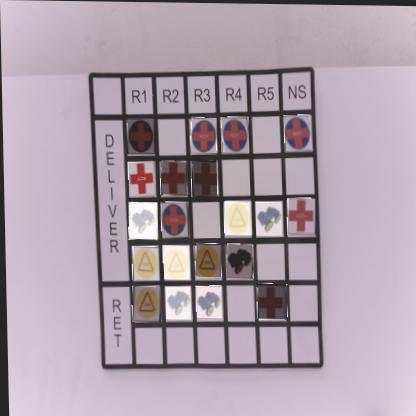OrderBlue: (127, 119, 157, 156), (190, 118, 219, 156), (161, 203, 190, 241), (285, 115, 312, 153), (222, 118, 250, 154)
OrderGurney: (129, 203, 159, 241), (255, 202, 284, 237), (226, 245, 254, 280), (196, 286, 223, 320), (165, 287, 192, 321)
OrderRed: (287, 198, 317, 237), (257, 284, 288, 320), (192, 159, 218, 198), (129, 162, 156, 199), (161, 161, 188, 197)
OrderYellow: (132, 286, 162, 324), (224, 202, 253, 237), (194, 244, 223, 279), (163, 246, 191, 281), (132, 247, 160, 282)
